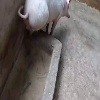heo: (16, 1, 83, 37)
